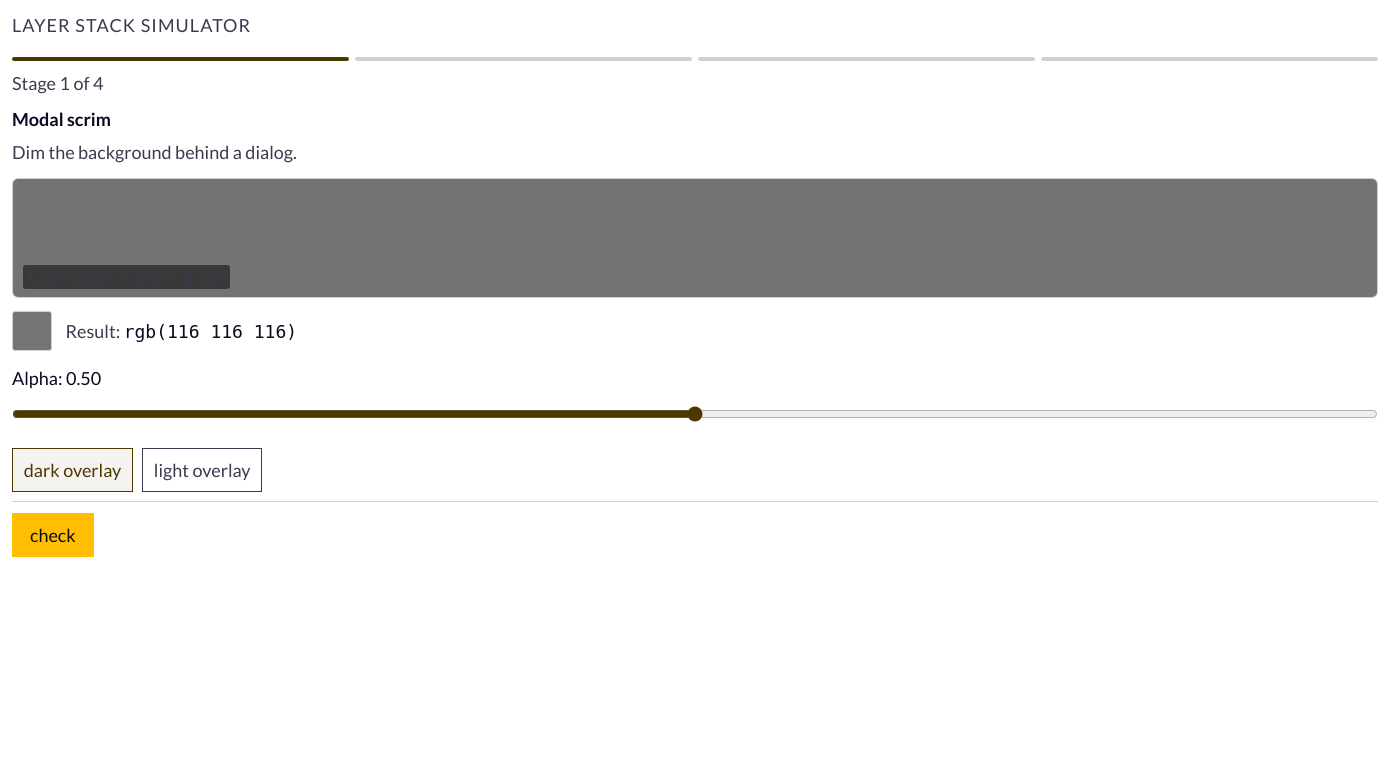
Test: AlphaLayerTool image text overlay context › presents the four contexts as ordered stages
The image size is (1390, 780).
Expected: the text "Stage 1 of 4" is shown, [12,72,103,94]
Expected: the heading "Modal scrim" is shown, [12,108,111,130]
Click the button "check" at (53, 535), box [12,513,94,557]
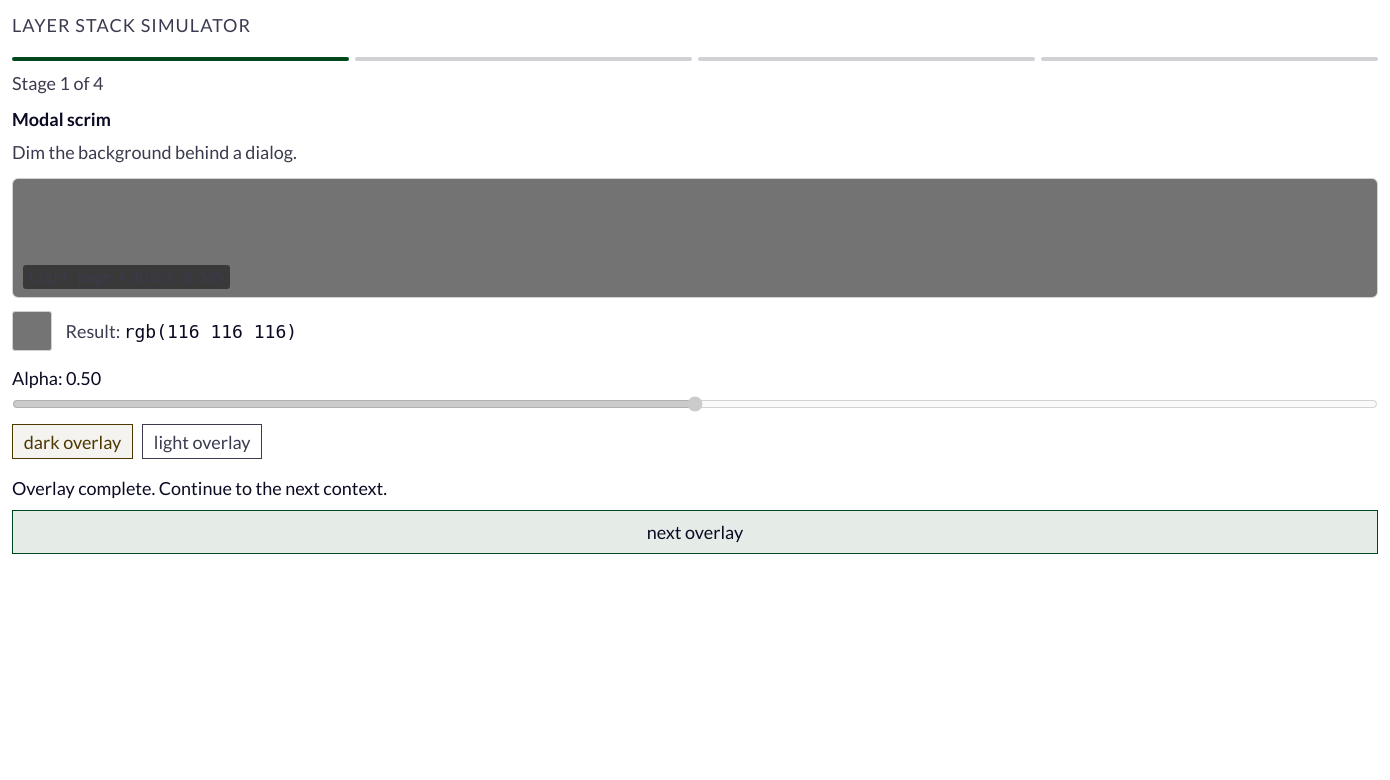
Click the button "next overlay" at (695, 532), box [12,510,1378,554]
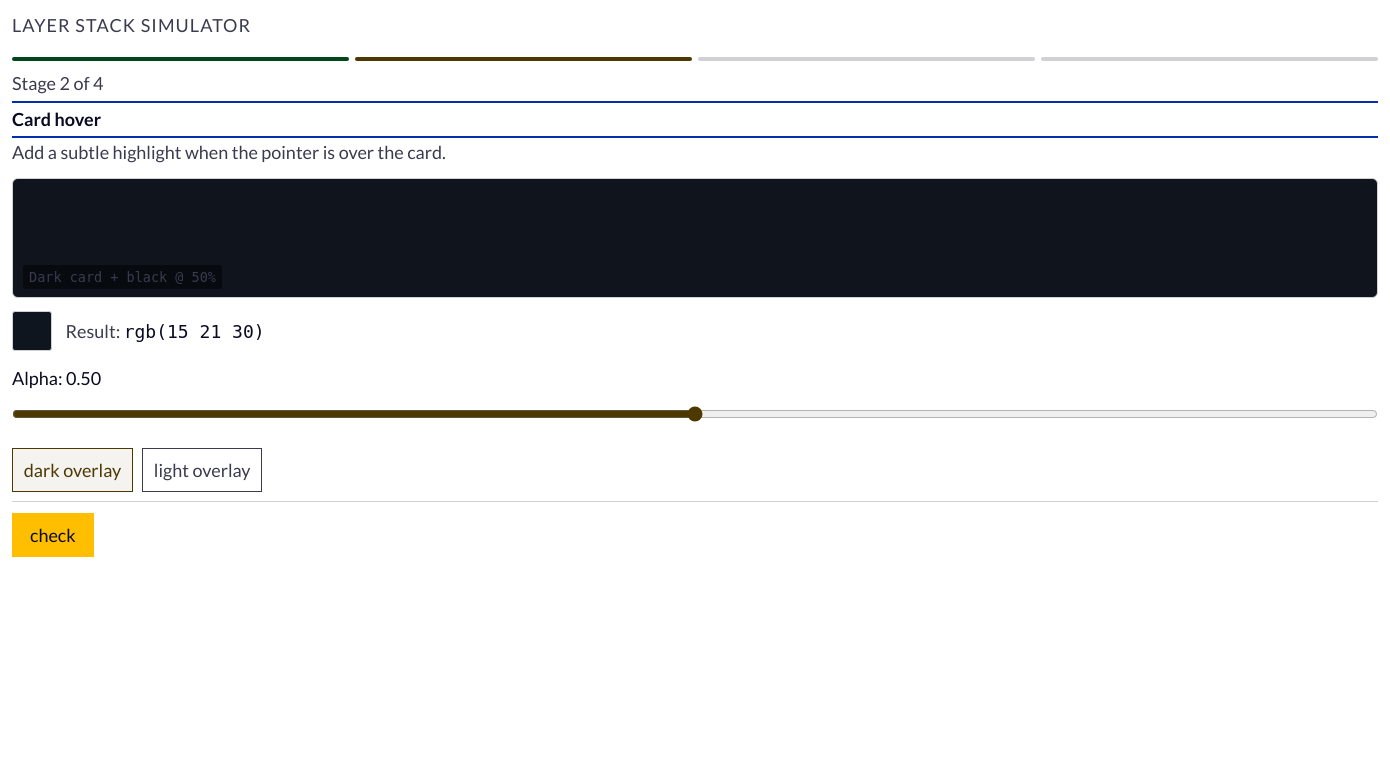
Expected: the text "Stage 2 of 4" is shown, [12,72,103,94]
Expected: the heading "Card hover" is shown, [12,108,101,130]
